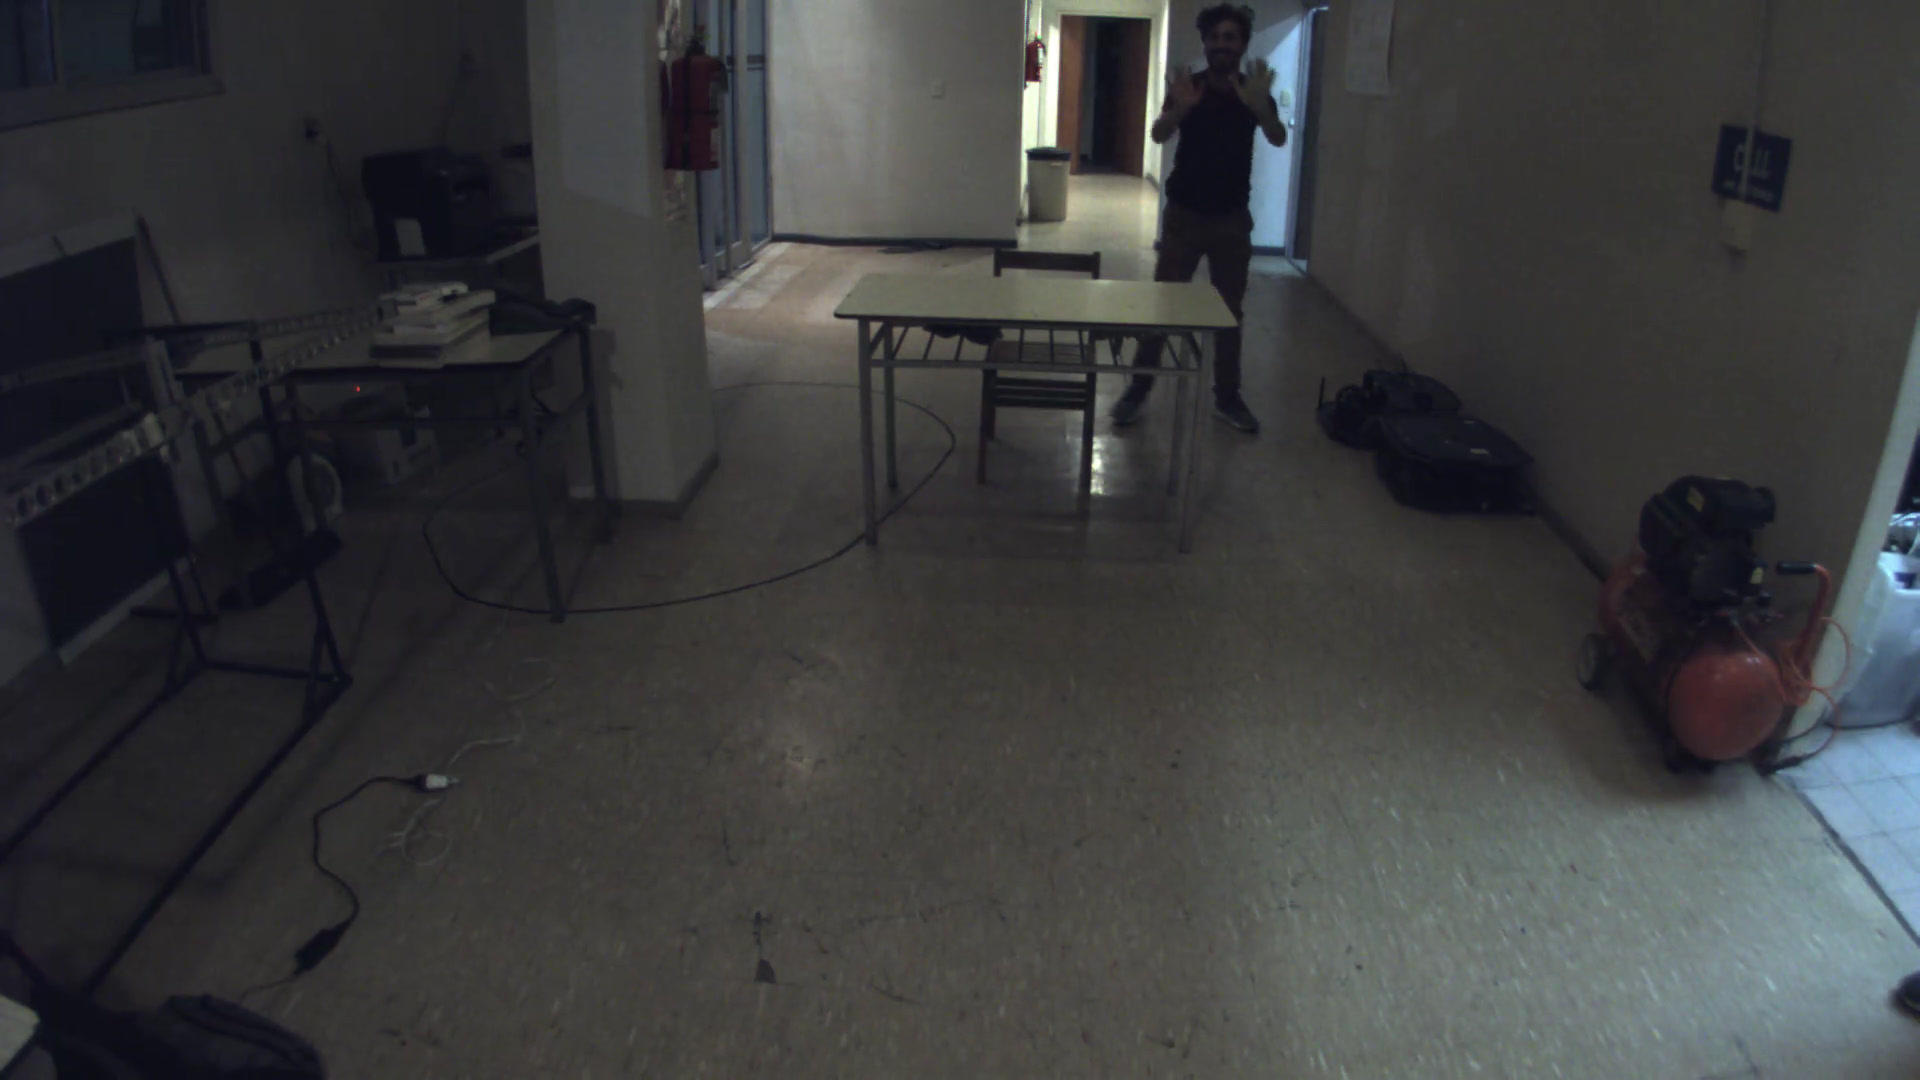hand: (1226, 51, 1294, 129), (1156, 59, 1216, 117)
